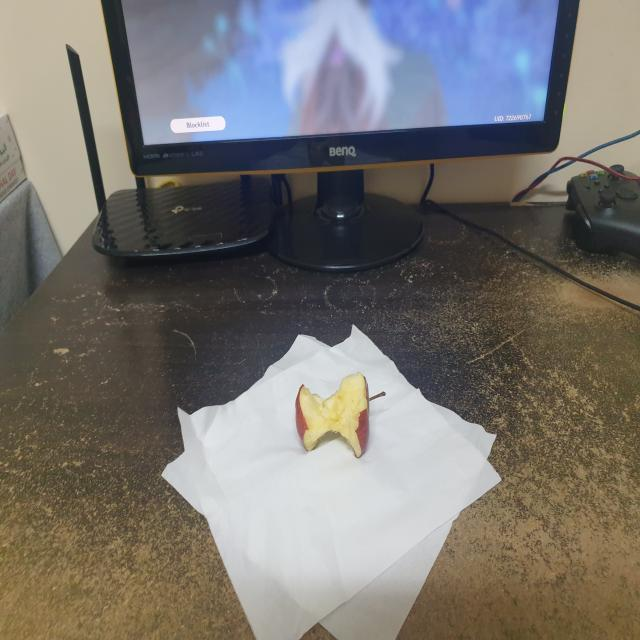apple: (290, 372, 390, 464)
